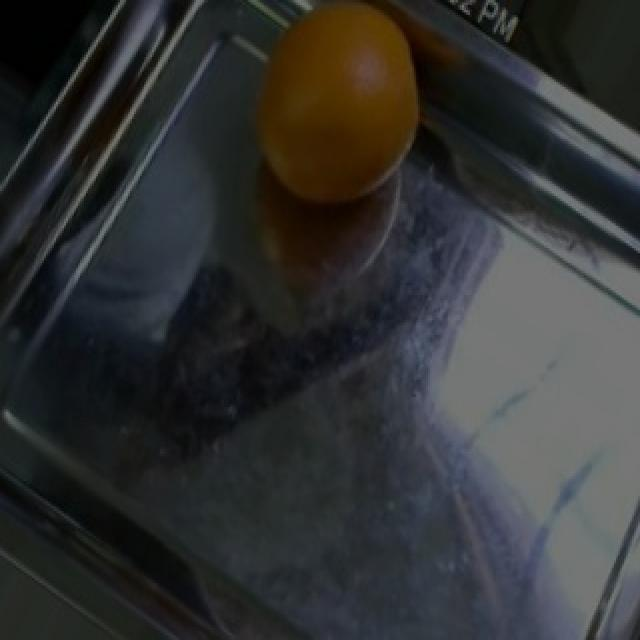Fruit: (226, 0, 448, 231)
